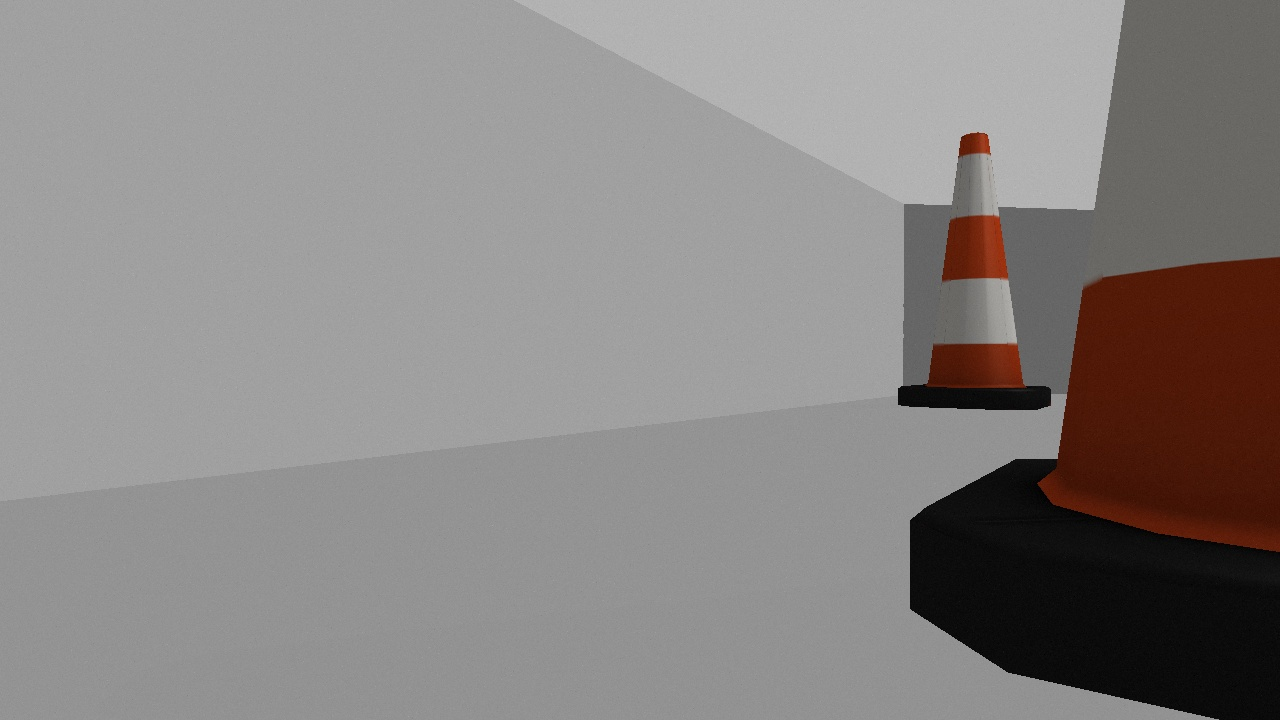barricade: (895, 133, 1050, 410)
